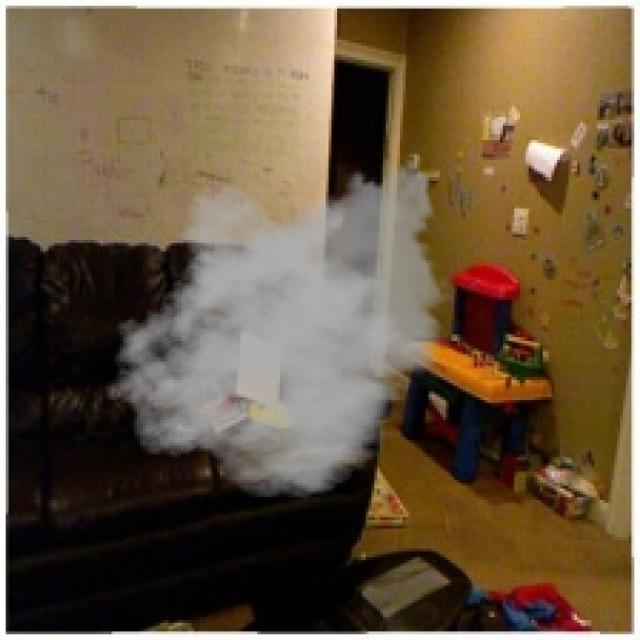smoke: (103, 149, 454, 500)
